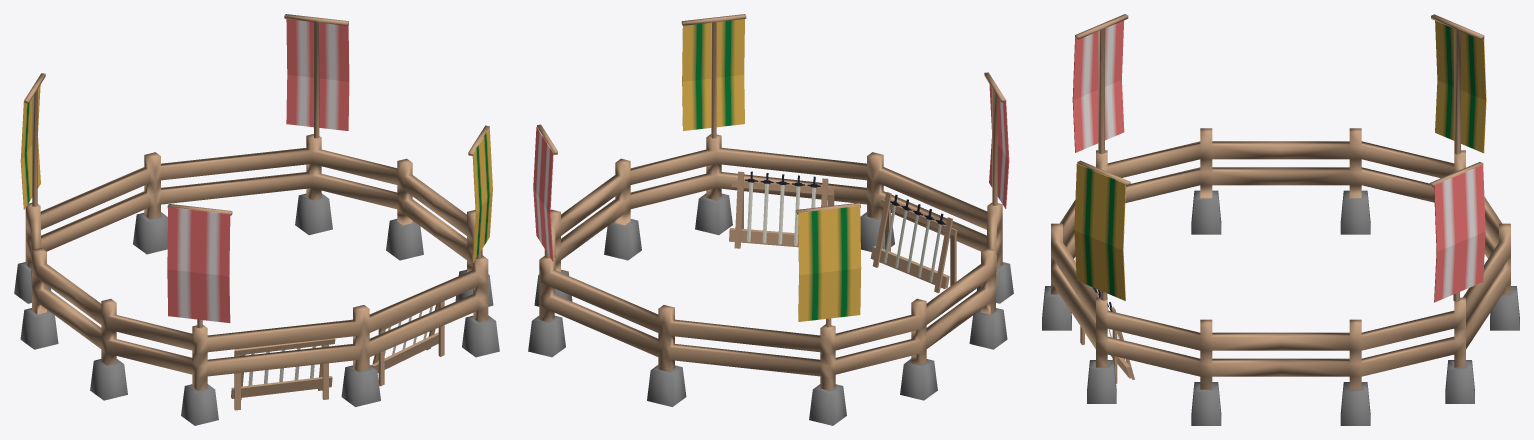
Rendered from Octagon.fbx.
3 renders of one model, left to right at view 1: azimuth 30°, elevation 25°; view 2: azimuth 150°, elevation 25°; view 3: azimuth 270°, elevation 25°, orthographic. The views are drawn at different scales.
Visible parts, largest first — view 1: Octagon; view 2: Octagon; view 3: Octagon.
Part boxes in pixels (box(x1,y1,x2,y2)): Octagon: box(14, 14, 499, 425); Octagon: box(528, 14, 1013, 425); Octagon: box(1042, 14, 1519, 425).
Size of the model in its own units: 0.6738 by 0.3512 by 0.6667.
